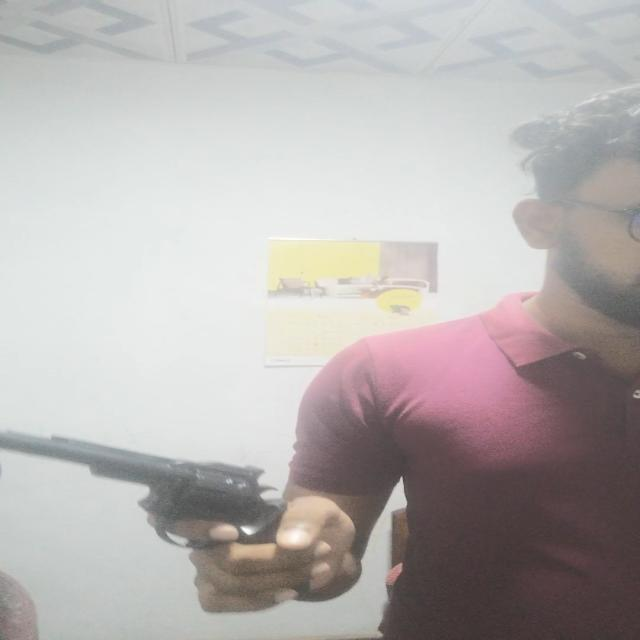Gun_Holder: (12, 418, 355, 612)
Person: (215, 86, 640, 640)
